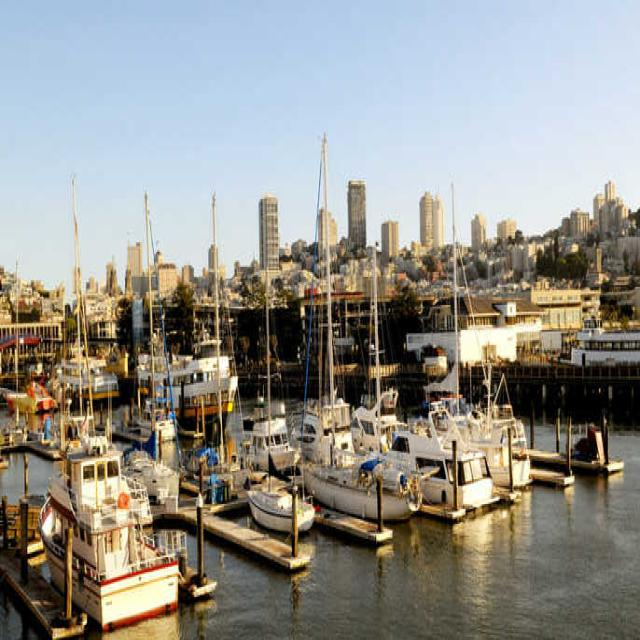cargoship: (41, 416, 190, 623)
